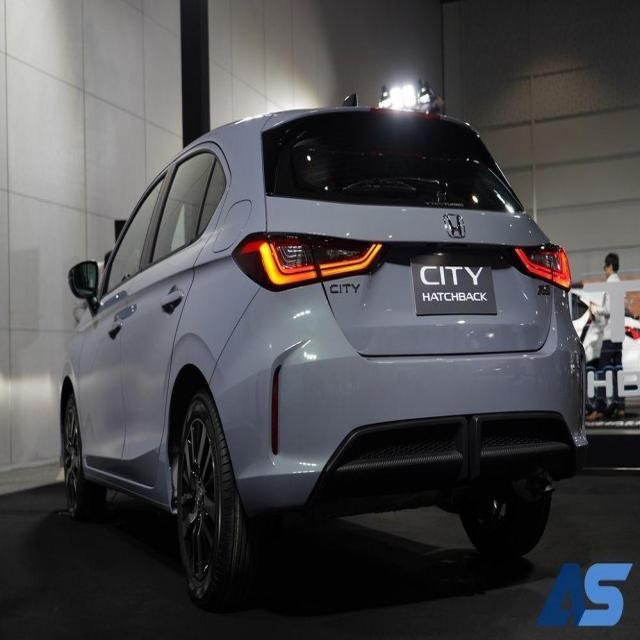Hatchback: (62, 89, 587, 613)
